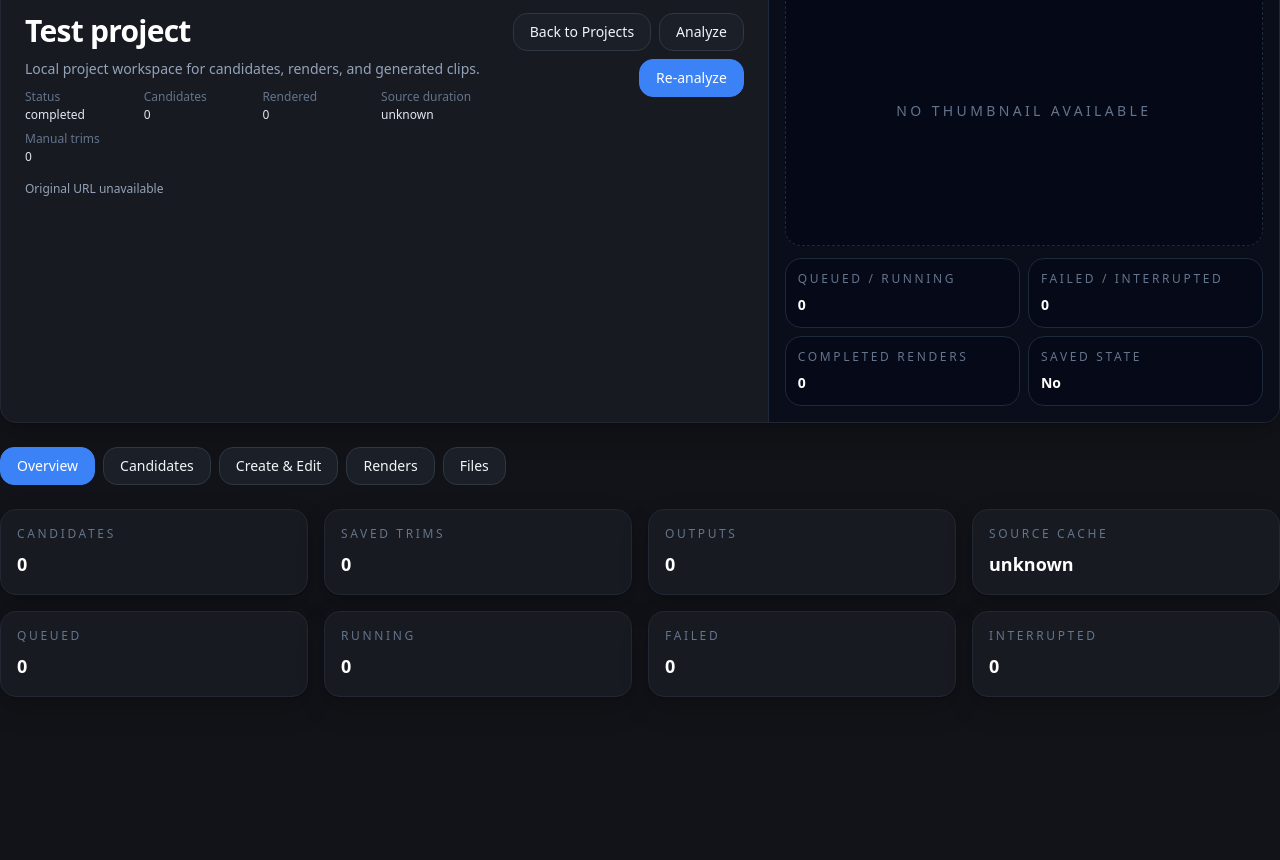
Scenario: ProjectWorkspacePage tools › explains completed analysis with no candidates
expect the heading "Test project" is shown: met, box [25, 10, 191, 51]
Click the button "Create & Edit". click: (279, 466)
box: [219, 447, 338, 485]
(page scrolled)
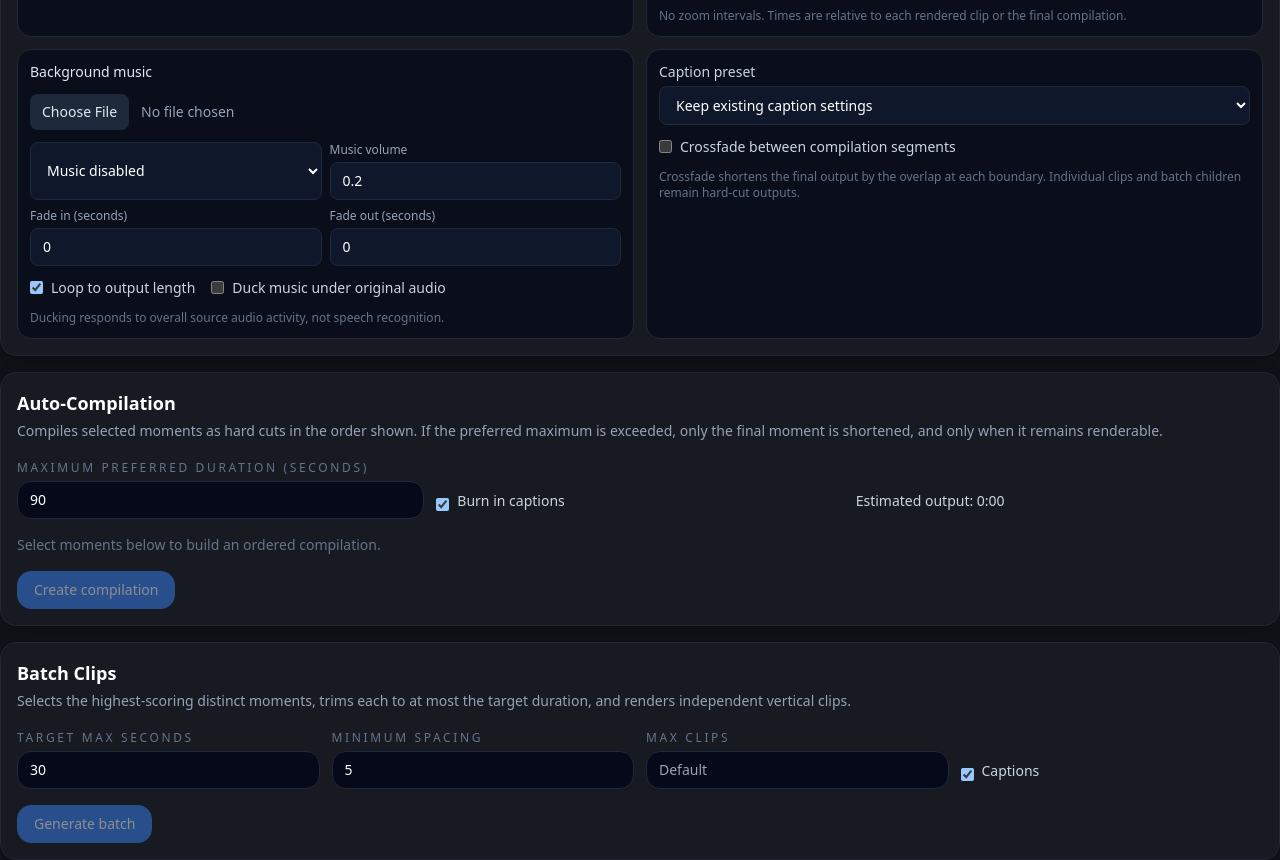
expect the heading "Batch Clips" is shown: met, box [17, 661, 116, 685]
expect the button "Generate batch" is disabled: met, box [17, 805, 152, 843]
